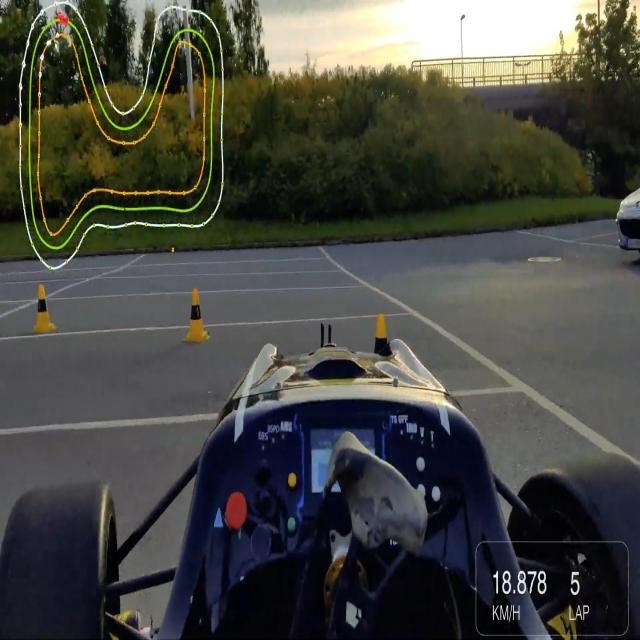yellow_cone: (366, 310, 397, 409), (185, 286, 208, 343), (33, 283, 57, 336)
